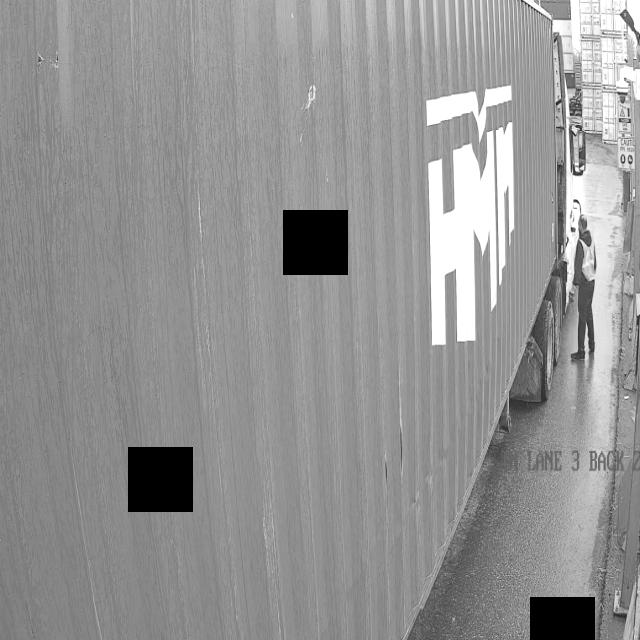container_company_logo: (388, 56, 569, 365)
driver: (571, 215, 596, 359)
truck_with_container: (0, 0, 572, 640)
